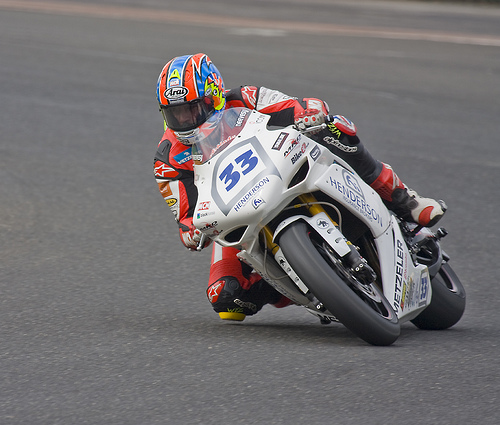helmet: (154, 59, 222, 136)
